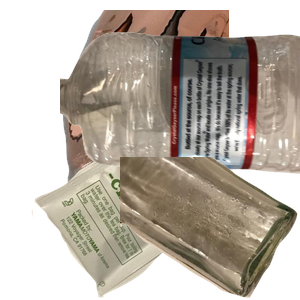glass: (120, 157, 300, 300)
metal: (60, 10, 300, 190)
plastic: (60, 30, 300, 196)
trash: (29, 124, 238, 300)
